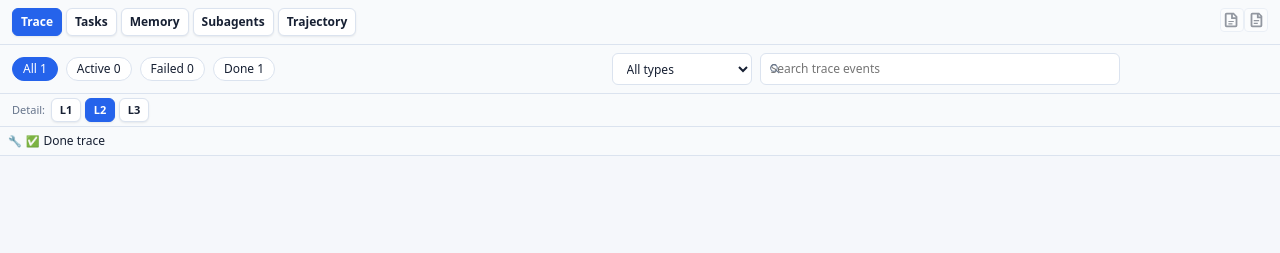
Test case: TraceTimeline › shows a filtered empty state when search has no matches
Type "does-not-exist" into the search field with test id "trace-search-input". click: coordinates (940, 69)
box: x1=760 y1=53 x2=1120 y2=85
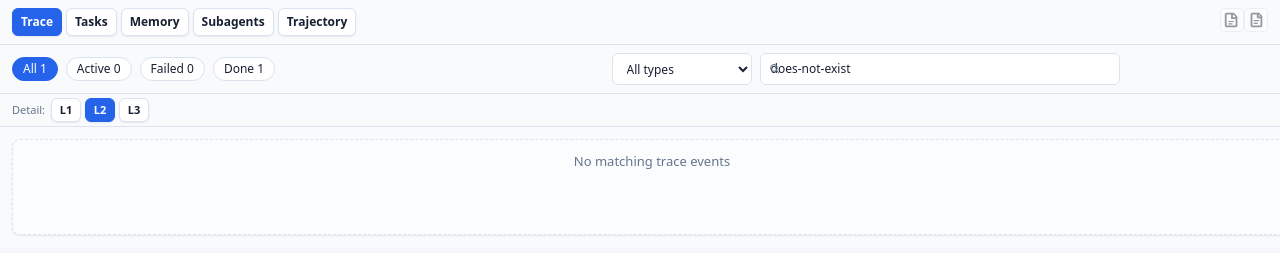
Now the text "No matching trace events" is shown, box x1=574 y1=152 x2=730 y2=171
Now no elements with test id "trace-entry" are shown
